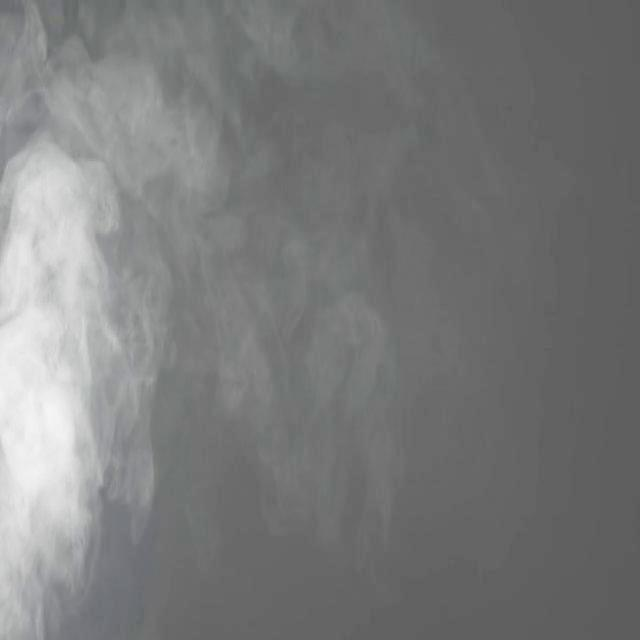smoke: (5, 491, 111, 635), (9, 147, 87, 259), (64, 377, 134, 482), (62, 264, 132, 368), (2, 260, 58, 375), (51, 48, 116, 146), (118, 64, 170, 171), (131, 246, 171, 382), (4, 384, 56, 478), (175, 124, 219, 202), (80, 178, 112, 260)
